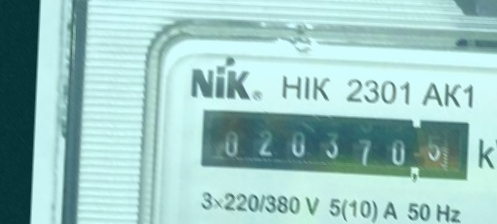0: (389, 137, 408, 168), (222, 128, 240, 157), (290, 129, 306, 157)
2: (256, 127, 275, 159)
3: (323, 129, 340, 160)
5: (425, 132, 444, 163)
7: (356, 137, 372, 167)
screen: (193, 103, 478, 190)
